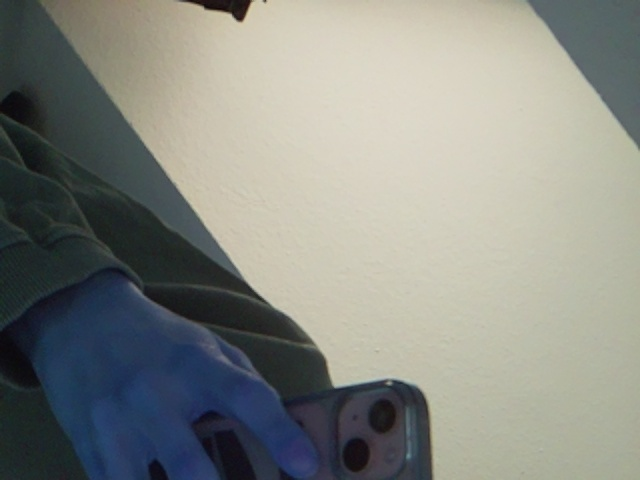cell phone: (135, 386, 467, 479)
